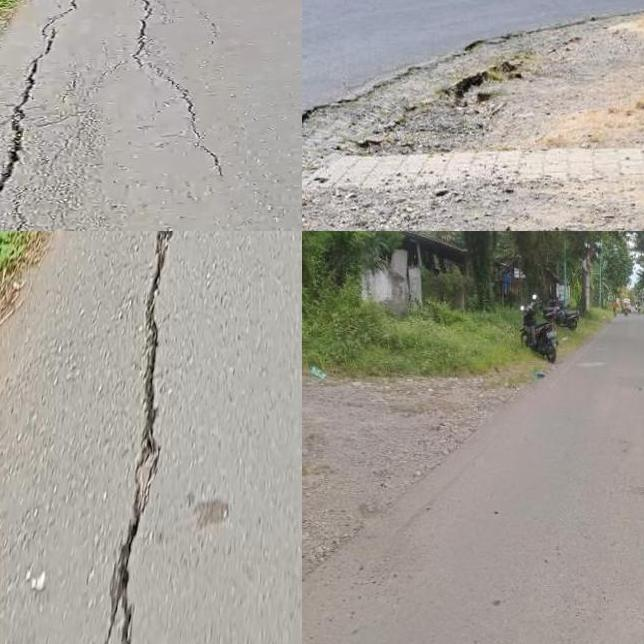Memanjang: (89, 231, 183, 644), (123, 0, 240, 179), (0, 0, 90, 231)
Pinggir: (302, 20, 586, 231)
